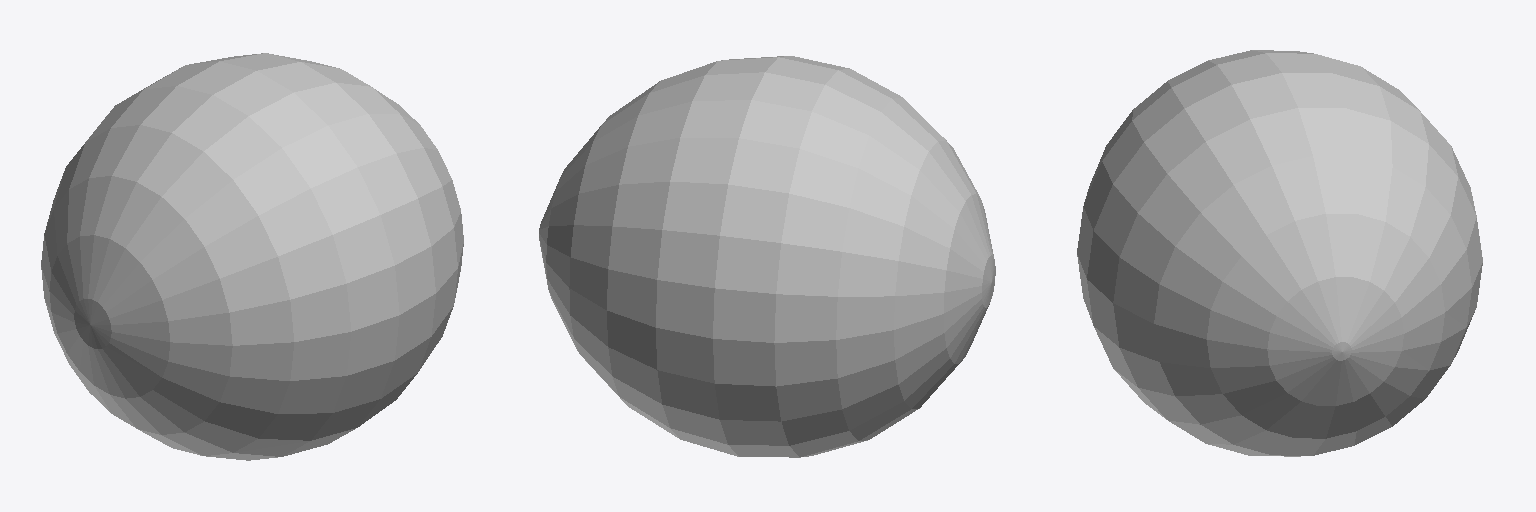
File: lemon.obj
3 views of the same model, side by side, from view 1: azimuth 30°, elevation 25°; view 2: azimuth 150°, elevation 25°; view 3: azimuth 270°, elevation 25° (orthographic).
Visible parts, largest first — view 1: Lemon; view 2: Lemon; view 3: Lemon.
Part boxes in pixels (bbox=[...]): Lemon: bbox=[41, 53, 463, 460]; Lemon: bbox=[539, 56, 995, 457]; Lemon: bbox=[1077, 50, 1482, 456].
Bounding box in the file's own units: 0.045 × 0.04 × 0.04.